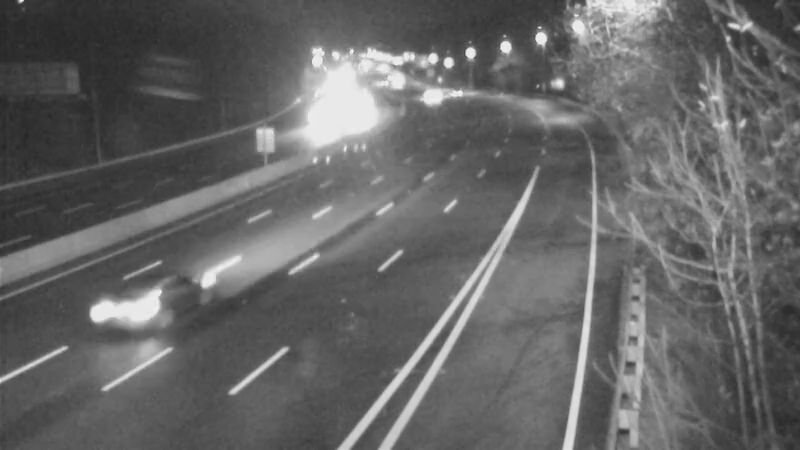vehicle: (68, 254, 178, 364), (428, 68, 478, 118), (406, 69, 456, 119)
